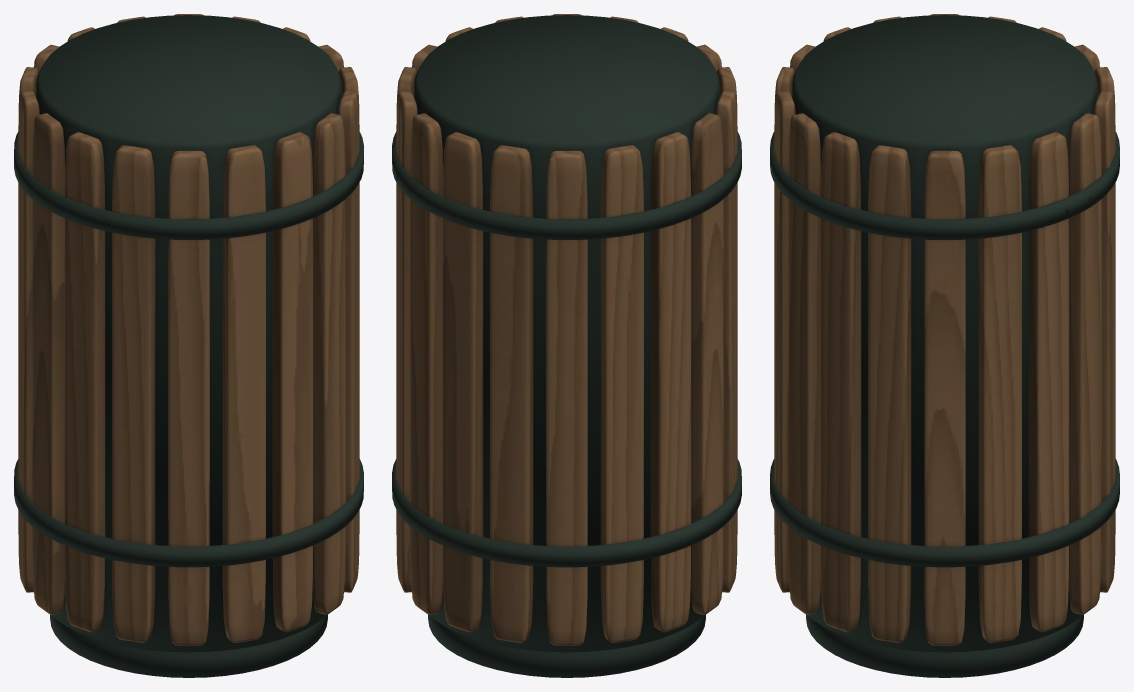
Rendered from park-slatted.glb.
3 renders of one model, left to right at view 1: azimuth 30°, elevation 25°; view 2: azimuth 150°, elevation 25°; view 3: azimuth 270°, elevation 25°, orthographic.
Visible parts, largest first — view 1: wood_v, paint_primary; view 2: wood_v, paint_primary; view 3: wood_v, paint_primary.
Boxes of the visible parts, x1=… form: wood_v: x1=18, y1=14, x2=359, y2=645; paint_primary: x1=14, y1=15, x2=363, y2=677; wood_v: x1=396, y1=14, x2=737, y2=645; paint_primary: x1=392, y1=15, x2=741, y2=677; wood_v: x1=774, y1=14, x2=1115, y2=645; paint_primary: x1=770, y1=15, x2=1119, y2=677.
Bounding box in the file's own units: 0.504 × 0.86 × 0.504.
2 materials, 2 textured.
